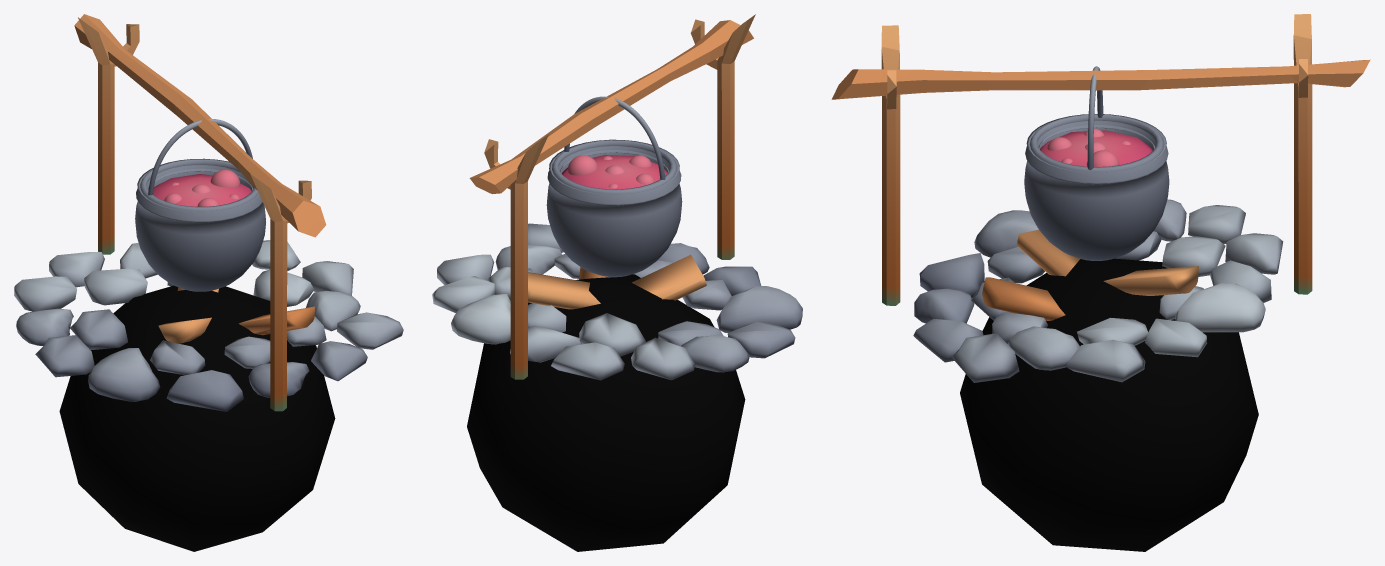
The model's file is fire_pot.glb.
3 renders of one model, left to right at view 1: azimuth 30°, elevation 25°; view 2: azimuth 150°, elevation 25°; view 3: azimuth 270°, elevation 25°, orthographic. The views are drawn at different scales.
Visible parts, largest first — view 1: Cylinder.012, Sphere.004, Cylinder.009; view 2: Cylinder.012, Sphere.004, Cylinder.009; view 3: Cylinder.012, Cylinder.009, Sphere.004.
Boxes of the visible parts, x1,y1,x2,y2 form: Cylinder.012: [14, 240, 403, 551]; Sphere.004: [135, 119, 265, 291]; Cylinder.009: [74, 14, 326, 411]; Cylinder.012: [432, 223, 802, 551]; Sphere.004: [546, 96, 682, 277]; Cylinder.009: [469, 14, 755, 379]; Cylinder.012: [913, 199, 1283, 551]; Cylinder.009: [831, 14, 1370, 305]; Sphere.004: [1024, 66, 1169, 260].
Size of the model in its own units: 1.04 by 1.42 by 1.35.
Materials: 1 (1 with a texture image).
